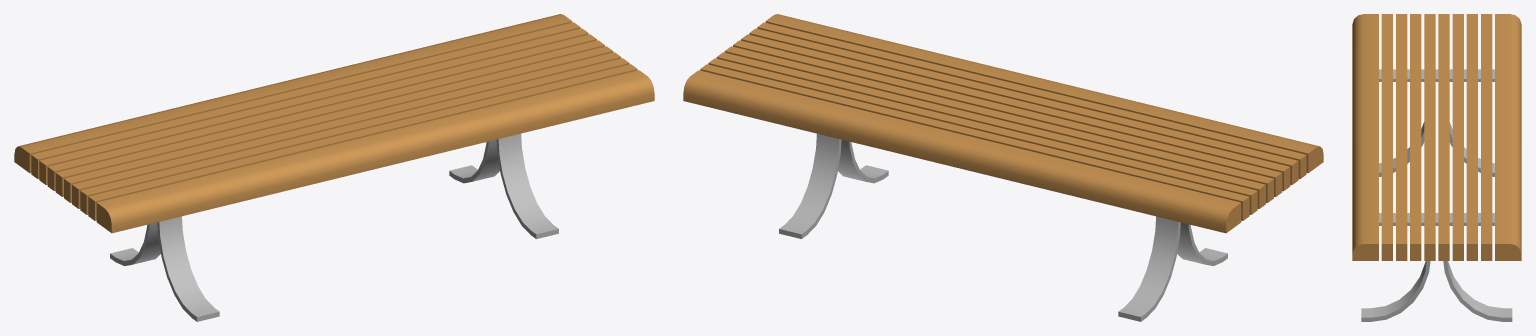
3 renders of one model, left to right at view 1: azimuth 30°, elevation 25°; view 2: azimuth 150°, elevation 25°; view 3: azimuth 270°, elevation 25°, orthographic. The views are drawn at different scales.
Visible parts, largest first — view 1: mesh3_mesh3-geometry, mesh5_mesh5-geometry, mesh1_mesh1-geometry_6, mesh1_mesh1-geometry_7, mesh1_mesh1-geometry_1, mesh1_mesh1-geometry, mesh1_mesh1-geometry_5, mesh1_mesh1-geometry_2, mesh1_mesh1-geometry_3, mesh1_mesh1-geometry_4, mesh7_mesh7-geometry_1, mesh7_mesh7-geometry; view 2: mesh5_mesh5-geometry, mesh3_mesh3-geometry, mesh1_mesh1-geometry, mesh1_mesh1-geometry_1, mesh1_mesh1-geometry_2, mesh1_mesh1-geometry_6, mesh1_mesh1-geometry_7, mesh1_mesh1-geometry_4, mesh1_mesh1-geometry_5, mesh1_mesh1-geometry_3, mesh7_mesh7-geometry_1, mesh7_mesh7-geometry; view 3: mesh3_mesh3-geometry, mesh5_mesh5-geometry, mesh1_mesh1-geometry, mesh1_mesh1-geometry_1, mesh1_mesh1-geometry_2, mesh1_mesh1-geometry_3, mesh1_mesh1-geometry_4, mesh1_mesh1-geometry_5, mesh1_mesh1-geometry_6, mesh1_mesh1-geometry_7, mesh7_mesh7-geometry, mesh7_mesh7-geometry_1.
Part boxes in pixels (left/top/right/bottom): mesh3_mesh3-geometry: left=96, top=70, right=654, bottom=233; mesh5_mesh5-geometry: left=14, top=14, right=572, bottom=173; mesh1_mesh1-geometry_6: left=80, top=58, right=629, bottom=214; mesh1_mesh1-geometry_7: left=88, top=64, right=637, bottom=220; mesh1_mesh1-geometry_1: left=39, top=28, right=588, bottom=184; mesh1_mesh1-geometry: left=31, top=22, right=580, bottom=178; mesh1_mesh1-geometry_5: left=72, top=52, right=621, bottom=208; mesh1_mesh1-geometry_2: left=47, top=34, right=596, bottom=190; mesh1_mesh1-geometry_3: left=55, top=40, right=604, bottom=196; mesh1_mesh1-geometry_4: left=64, top=46, right=613, bottom=202; mesh7_mesh7-geometry_1: left=110, top=216, right=219, bottom=321; mesh7_mesh7-geometry: left=449, top=133, right=558, bottom=238; mesh5_mesh5-geometry: left=683, top=70, right=1241, bottom=233; mesh3_mesh3-geometry: left=765, top=14, right=1323, bottom=173; mesh1_mesh1-geometry: left=700, top=64, right=1249, bottom=220; mesh1_mesh1-geometry_1: left=708, top=58, right=1257, bottom=214; mesh1_mesh1-geometry_2: left=716, top=52, right=1265, bottom=208; mesh1_mesh1-geometry_6: left=749, top=28, right=1298, bottom=184; mesh1_mesh1-geometry_7: left=757, top=22, right=1306, bottom=178; mesh1_mesh1-geometry_4: left=733, top=40, right=1282, bottom=196; mesh1_mesh1-geometry_5: left=741, top=34, right=1290, bottom=191; mesh1_mesh1-geometry_3: left=724, top=46, right=1273, bottom=202; mesh7_mesh7-geometry_1: left=1118, top=216, right=1227, bottom=321; mesh7_mesh7-geometry: left=779, top=133, right=888, bottom=238; mesh3_mesh3-geometry: left=1352, top=14, right=1378, bottom=260; mesh5_mesh5-geometry: left=1495, top=14, right=1521, bottom=260; mesh1_mesh1-geometry: left=1481, top=14, right=1492, bottom=260; mesh1_mesh1-geometry_1: left=1466, top=14, right=1477, bottom=260; mesh1_mesh1-geometry_2: left=1452, top=14, right=1463, bottom=260; mesh1_mesh1-geometry_3: left=1438, top=14, right=1449, bottom=260; mesh1_mesh1-geometry_4: left=1424, top=14, right=1435, bottom=260; mesh1_mesh1-geometry_5: left=1410, top=14, right=1421, bottom=260; mesh1_mesh1-geometry_6: left=1396, top=14, right=1407, bottom=260; mesh1_mesh1-geometry_7: left=1381, top=14, right=1392, bottom=260; mesh7_mesh7-geometry: left=1361, top=213, right=1512, bottom=321; mesh7_mesh7-geometry_1: left=1379, top=69, right=1494, bottom=176.
Size of the model in its own units: 0.9316 by 0.22 by 0.2895.
